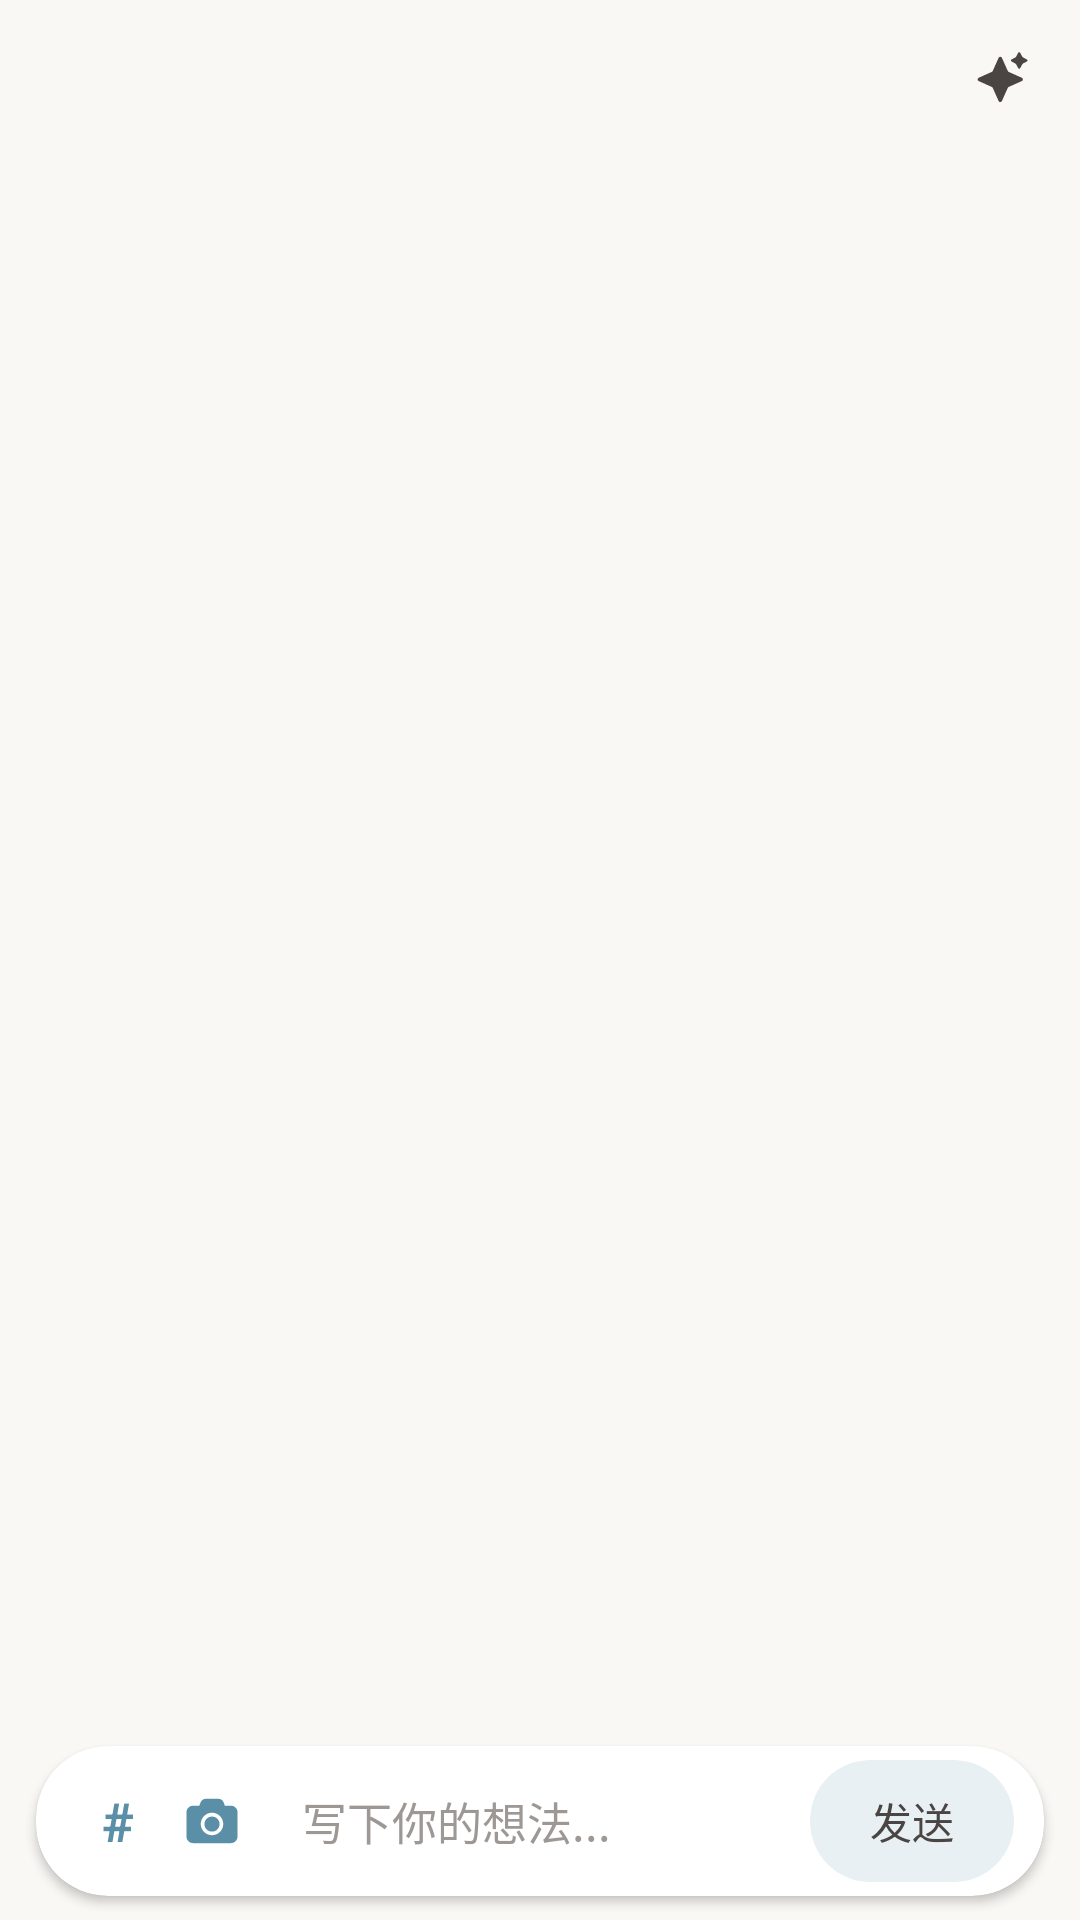

Point at icon controls on the screen. Image size 1080px×1920px, points as point (x, y).
识图: point (212, 1821)
